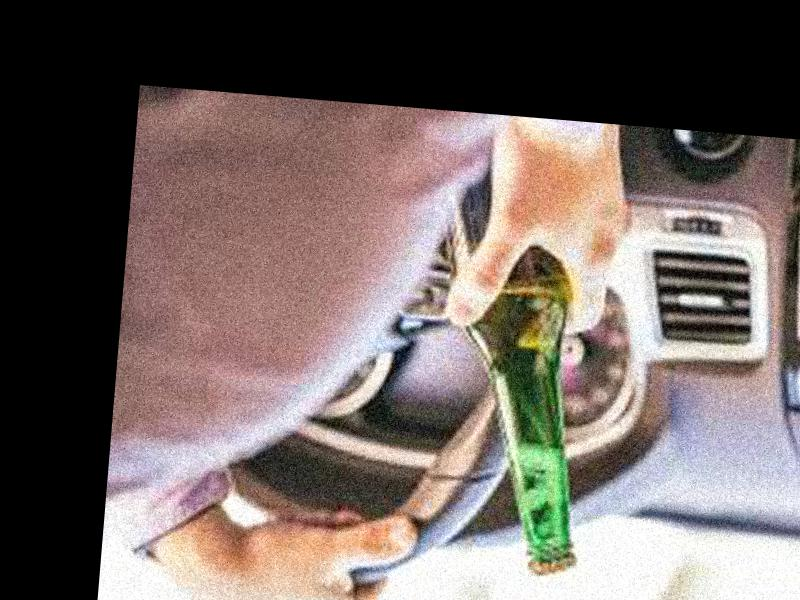Beer: (411, 129, 612, 581)
